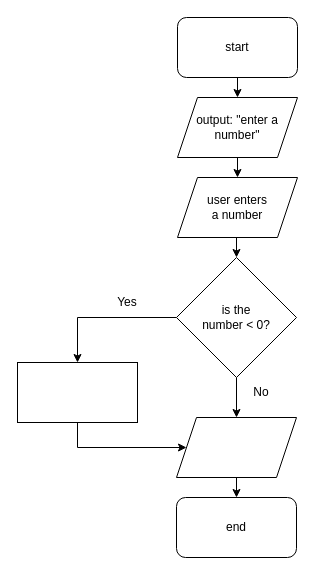
Image size: 315x575. Some labels were removed from this diagram. The box of each missing label's shape, as (x1, y1, x2, y2) in pixels:
output number: (176, 416, 296, 478)
set number to number * -1: (16, 362, 138, 422)
